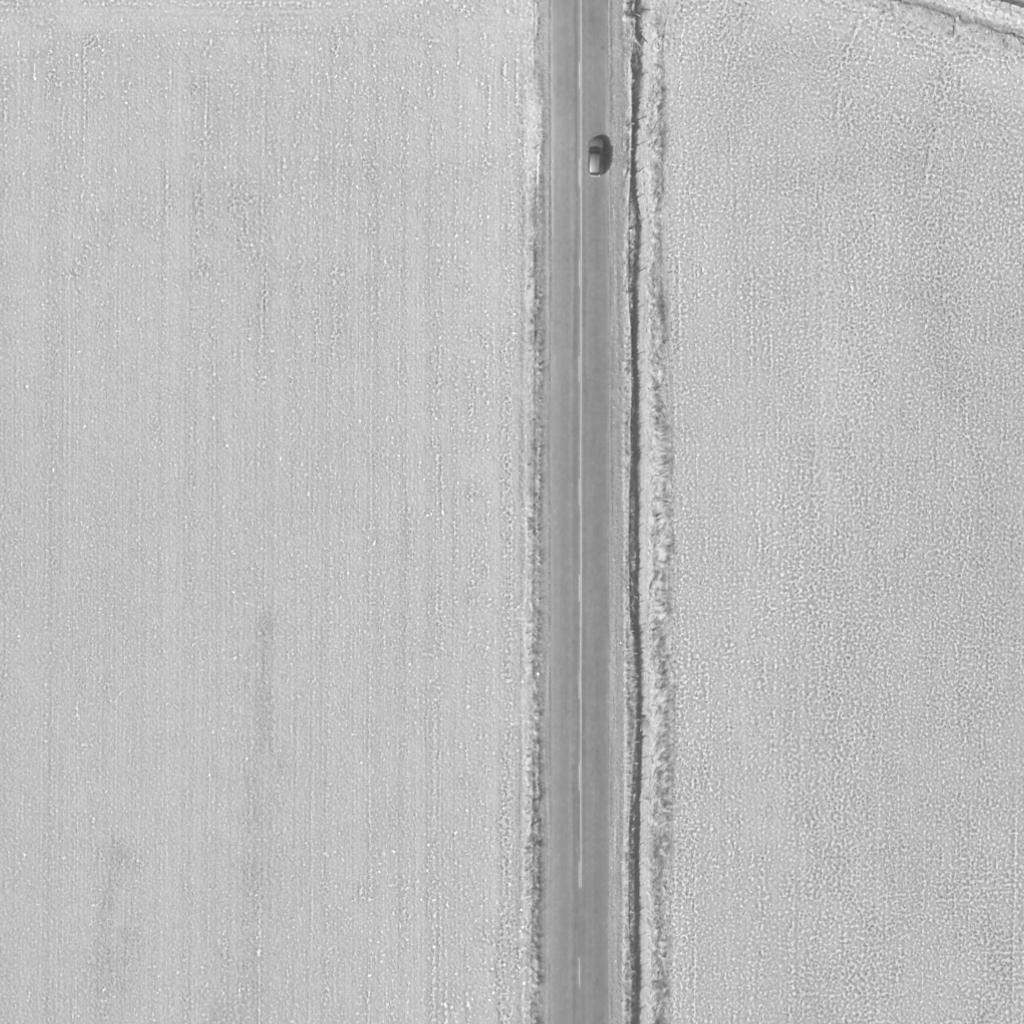vehicle: (588, 138, 604, 178)
